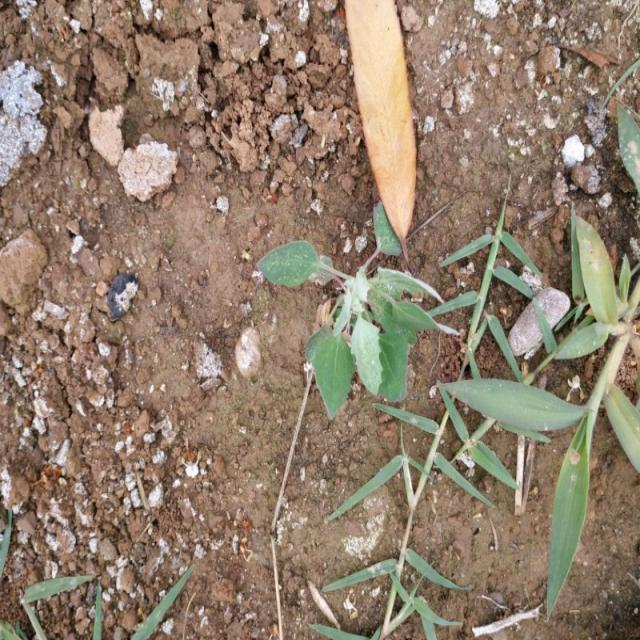ca: (255, 238, 440, 422)
